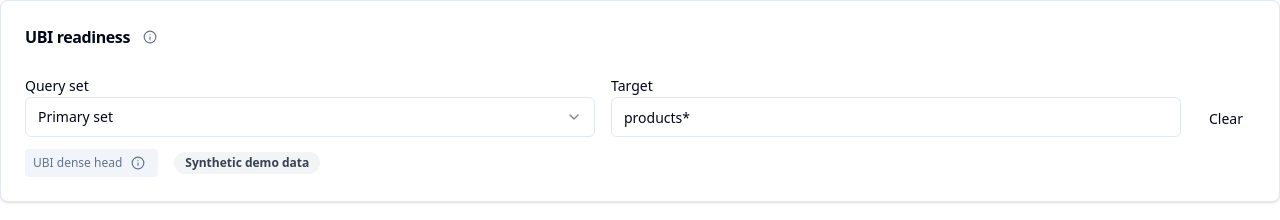
Test: ClusterDetailUbiReadinessCard › AC-8b: clearing the target input hides the badge + chip (dual leak gate)
Expected: the element with test id "ubi-rung-badge" is shown, 25,149 -> 158,177
Clear the field with test id "cluster-detail-ubi-target-input" at (896, 117), box 611,97 -> 1181,137
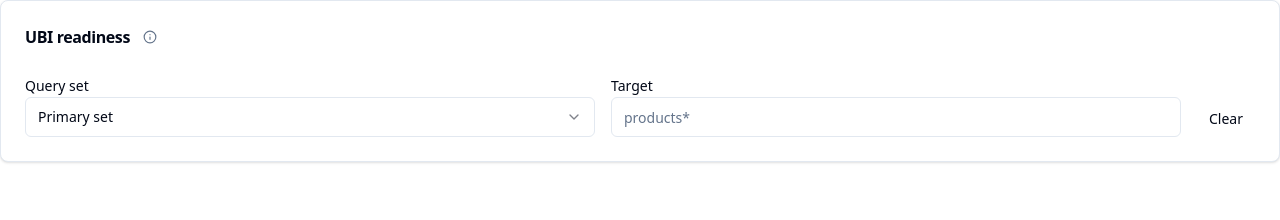
Expected: the element with test id "ubi-rung-badge" is gone
Expected: the picture with test id "demo-badge-synthetic-ubi" is gone
